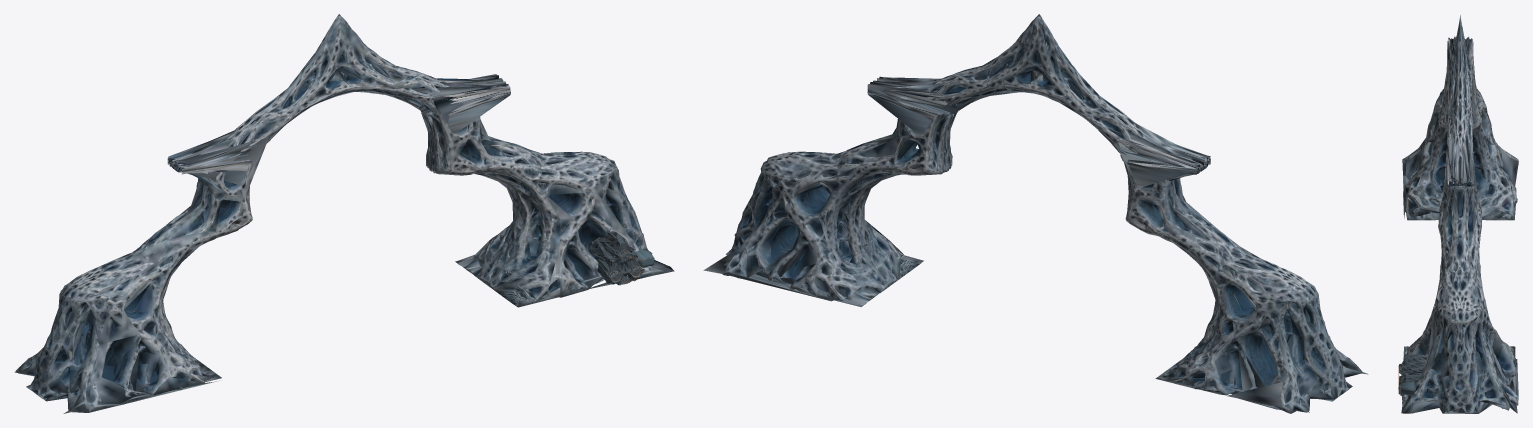
Rendered from terrasa-vrat-v18.glb.
The picture shows the model from 3 angles, left to right: view 1: azimuth 30°, elevation 25°; view 2: azimuth 150°, elevation 25°; view 3: azimuth 270°, elevation 25°; orthographic projection. The views are drawn at different scales.
Visible parts, largest first — view 1: LOD0_Mineral, LOD2_Mineral, LOD1_Mineral; view 2: LOD0_Mineral, LOD1_Mineral, LOD2_Mineral; view 3: LOD0_Mineral, LOD1_Mineral, LOD2_Mineral.
Part boxes in pixels (box(x1,y1,x2,y2)): LOD0_Mineral: box(14, 14, 654, 413); LOD2_Mineral: box(29, 14, 674, 412); LOD1_Mineral: box(15, 14, 669, 411); LOD0_Mineral: box(722, 14, 1368, 412); LOD1_Mineral: box(722, 15, 1362, 413); LOD2_Mineral: box(703, 16, 1362, 407); LOD0_Mineral: box(1398, 15, 1518, 413); LOD1_Mineral: box(1398, 17, 1518, 413); LOD2_Mineral: box(1399, 16, 1518, 413).
Size of the model in its own units: 120 by 58.1 by 23.52.
Materials: 3 (1 with a texture image).
